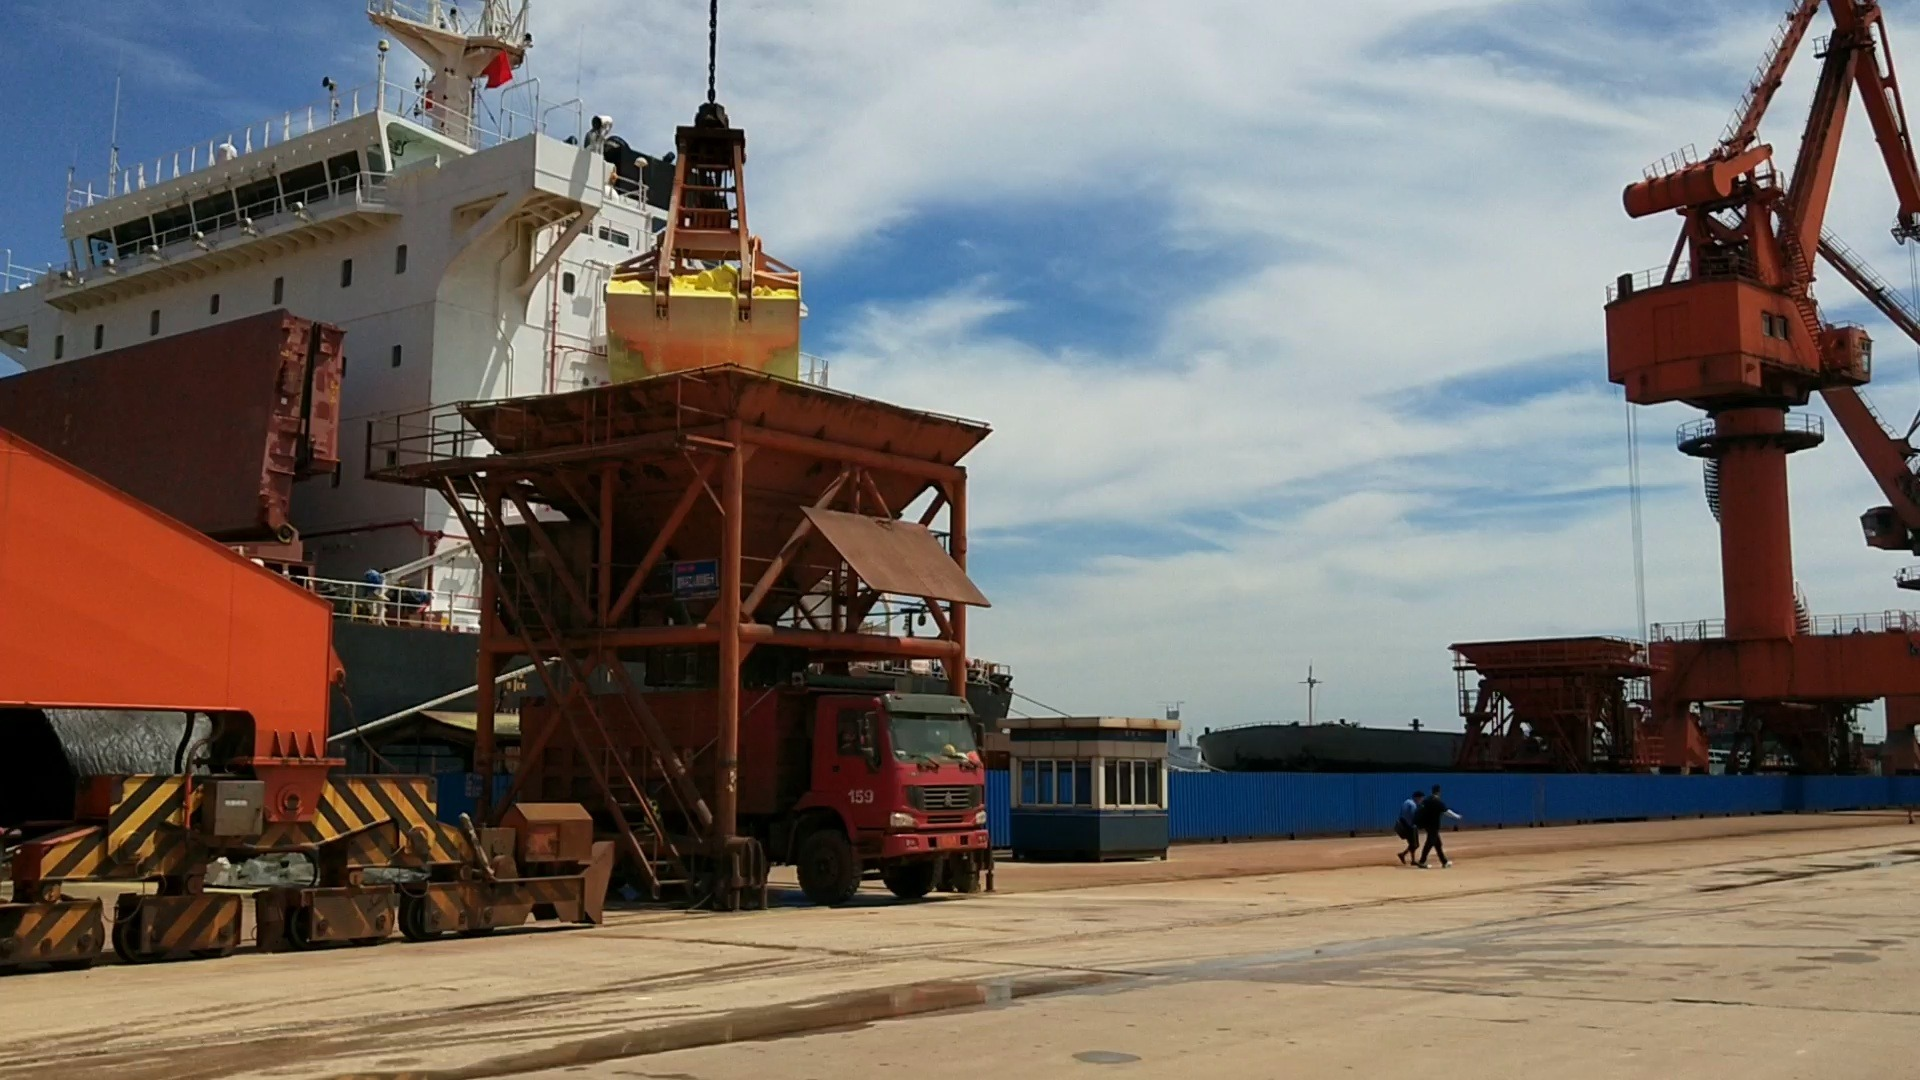grab: (582, 69, 814, 407)
truck: (738, 670, 1010, 898)
